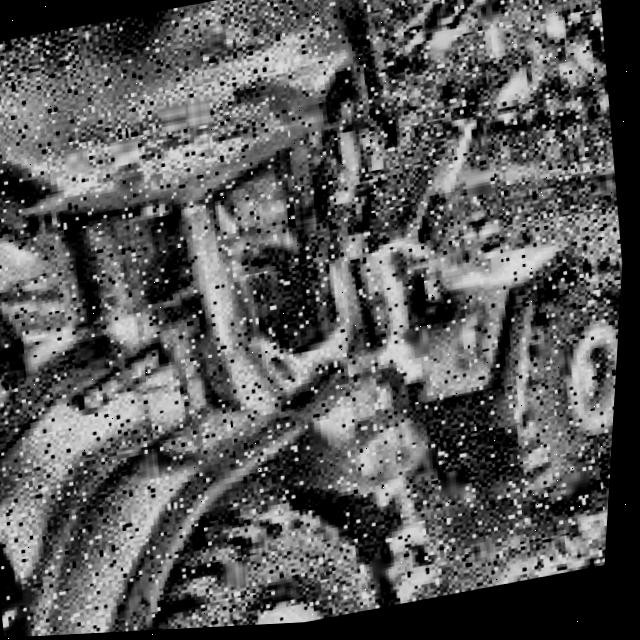buldozerpayloadergrader: (0, 17, 638, 640)
